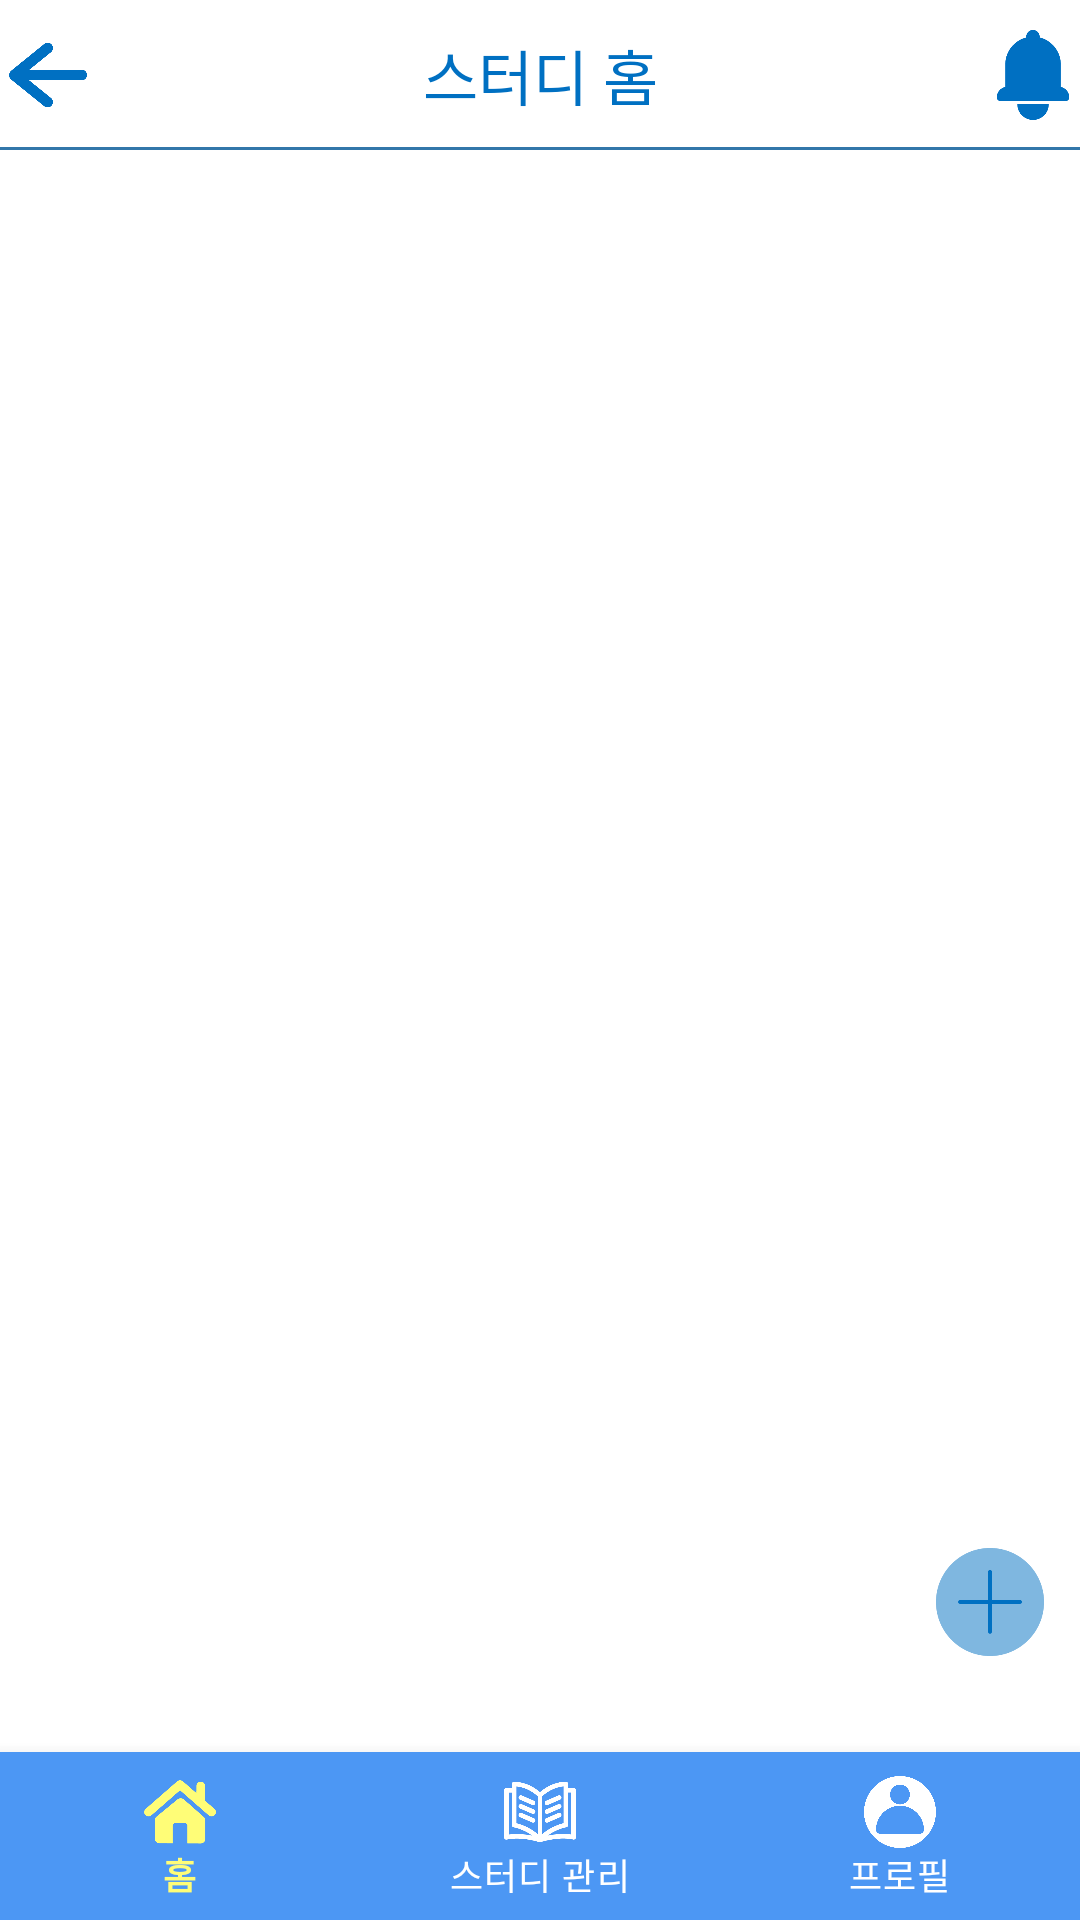

Icons on this 1080×1920 Android screen, each with its box as [x1, y1, x2, y2]:
add: [936, 1548, 1044, 1656]
